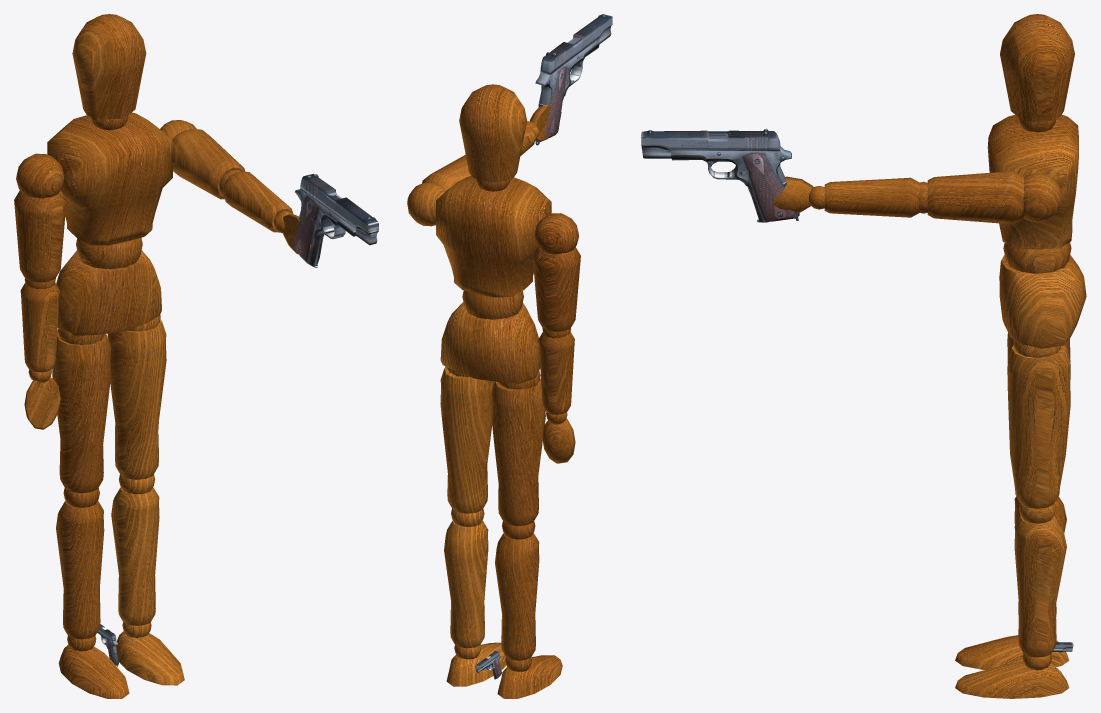
File: dummy_obj_9.obj
3 renders of one model, left to right at view 1: azimuth 30°, elevation 25°; view 2: azimuth 150°, elevation 25°; view 3: azimuth 270°, elevation 25°, orthographic. The views are drawn at different scales.
Parts seen in each view (by area): view 1: dummy_hips3_dummy_belly_dummy_torso, dummy_hips3_dummy_rpelvis_dummy_rupleg, dummy_hips3_dummy_lpelvis_dummy_lupleg, dummy_hips3, dummy_hips3_dummy_belly_dummy_torso_dummy_neck_dummy_headq, dummy_hips3_dummy_lpelvis_dummy_lupleg_dummy_lknee_dummy_lleg, dummy_hips3_dummy_rpelvis_dummy_rupleg_dummy_rknee_dummy_rleg, dummy_hips3_dummy_belly_dummy_torso_dummy_rshoulder_dummy_rarm, dummy_hips3_dummy_belly_dummy_torso_dummy_rshoulder_dummy_r.001, dummy_hips3_dummy_belly_dummy_torso_dummy_lshoulder_dummy_larm, dummy_hips3_dummy_rpelvis_dummy_rupleg_dummy_rknee_dummy_rleg_d, dummy_hips3_dummy_lpelvis_dummy_lupleg_dummy_lknee_dummy_ll.000 (+6 smaller); view 2: dummy_hips3_dummy_belly_dummy_torso, dummy_hips3_dummy_rpelvis_dummy_rupleg, dummy_hips3_dummy_lpelvis_dummy_lupleg, dummy_hips3, dummy_hips3_dummy_belly_dummy_torso_dummy_neck_dummy_headq, dummy_hips3_dummy_rpelvis_dummy_rupleg_dummy_rknee_dummy_rleg, dummy_hips3_dummy_lpelvis_dummy_lupleg_dummy_lknee_dummy_lleg, dummy_hips3_dummy_belly_dummy_torso_dummy_rshoulder_dummy_rarm, dummy_hips3_dummy_belly_dummy_torso_dummy_rshoulder_dummy_r.001, Cube_Cube.001, dummy_hips3_dummy_rpelvis_dummy_rupleg_dummy_rknee_dummy_rleg_d, Plane.004 (+9 smaller); view 3: dummy_hips3_dummy_lpelvis_dummy_lupleg, dummy_hips3_dummy_belly_dummy_torso, dummy_hips3_dummy_belly_dummy_torso_dummy_neck_dummy_headq, dummy_hips3, dummy_hips3_dummy_lpelvis_dummy_lupleg_dummy_lknee_dummy_lleg, dummy_hips3_dummy_belly_dummy_torso_dummy_lshoulder_dummy_larm, Cube_Cube.001, dummy_hips3_dummy_belly_dummy_torso_dummy_lshoulder_dummy_l.000, dummy_hips3_dummy_lpelvis_dummy_lupleg_dummy_lknee_dummy_ll.000, Plane.004, dummy_hips3_dummy_rpelvis_dummy_rupleg_dummy_rknee_dummy_rleg_d, dummy_hips3_dummy_belly_dummy_torso_dummy_lshoulder (+2 smaller).
Boxes of the visible parts, x1,y1,x2,y2 form: dummy_hips3_dummy_belly_dummy_torso: (47,112,172,245); dummy_hips3_dummy_rpelvis_dummy_rupleg: (52,330,111,493); dummy_hips3_dummy_lpelvis_dummy_lupleg: (107,319,166,479); dummy_hips3: (56,250,161,335); dummy_hips3_dummy_belly_dummy_torso_dummy_neck_dummy_headq: (72,14,146,119); dummy_hips3_dummy_lpelvis_dummy_lupleg_dummy_lknee_dummy_lleg: (111,487,159,625); dummy_hips3_dummy_rpelvis_dummy_rupleg_dummy_rknee_dummy_rleg: (56,500,104,639); dummy_hips3_dummy_belly_dummy_torso_dummy_rshoulder_dummy_rarm: (14,190,66,282); dummy_hips3_dummy_belly_dummy_torso_dummy_rshoulder_dummy_r.001: (20,282,59,372); dummy_hips3_dummy_belly_dummy_torso_dummy_lshoulder_dummy_larm: (172,129,245,199); dummy_hips3_dummy_rpelvis_dummy_rupleg_dummy_rknee_dummy_rleg_d: (58,644,129,698); dummy_hips3_dummy_lpelvis_dummy_lupleg_dummy_lknee_dummy_ll.000: (116,631,184,685); dummy_hips3_dummy_belly_dummy_torso: (436,176,551,297); dummy_hips3_dummy_rpelvis_dummy_rupleg: (491,378,545,525); dummy_hips3_dummy_lpelvis_dummy_lupleg: (440,366,494,513); dummy_hips3: (440,302,540,383); dummy_hips3_dummy_belly_dummy_torso_dummy_neck_dummy_headq: (459,84,527,182); dummy_hips3_dummy_rpelvis_dummy_rupleg_dummy_rknee_dummy_rleg: (495,533,539,660); dummy_hips3_dummy_lpelvis_dummy_lupleg_dummy_lknee_dummy_lleg: (444,520,488,648); dummy_hips3_dummy_belly_dummy_torso_dummy_rshoulder_dummy_rarm: (532,247,580,331); dummy_hips3_dummy_belly_dummy_torso_dummy_rshoulder_dummy_r.001: (538,332,574,414); Cube_Cube.001: (535,38,599,145); dummy_hips3_dummy_rpelvis_dummy_rupleg_dummy_rknee_dummy_rleg_d: (497,655,562,698); Plane.004: (540,14,612,74); dummy_hips3_dummy_lpelvis_dummy_lupleg: (1007,345,1070,508); dummy_hips3_dummy_belly_dummy_torso: (987,115,1078,249); dummy_hips3_dummy_belly_dummy_torso_dummy_neck_dummy_headq: (1000,14,1074,122); dummy_hips3: (999,255,1086,348); dummy_hips3_dummy_lpelvis_dummy_lupleg_dummy_lknee_dummy_lleg: (1014,516,1066,657); dummy_hips3_dummy_belly_dummy_torso_dummy_lshoulder_dummy_larm: (927,171,1024,224); Cube_Cube.001: (671,146,799,222); dummy_hips3_dummy_belly_dummy_torso_dummy_lshoulder_dummy_l.000: (824,177,919,217); dummy_hips3_dummy_lpelvis_dummy_lupleg_dummy_lknee_dummy_ll.000: (955,662,1069,698); Plane.004: (641,128,780,158); dummy_hips3_dummy_rpelvis_dummy_rupleg_dummy_rknee_dummy_rleg_d: (955,635,1069,669); dummy_hips3_dummy_belly_dummy_torso_dummy_lshoulder: (1023,173,1062,222).
Bounding box in the file's own units: 52.69 × 177 × 109.
Materials: 14 (14 with a texture image).
